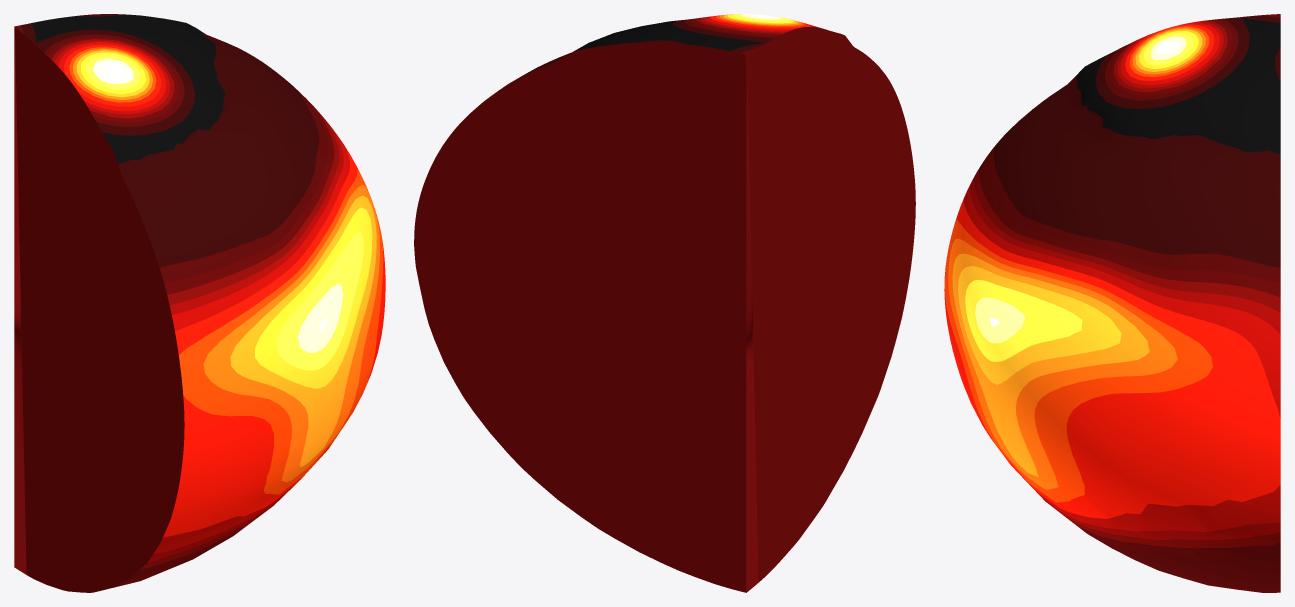
Rendered from dark_orb_br.glb.
3 renders of one model, left to right at view 1: azimuth 30°, elevation 25°; view 2: azimuth 150°, elevation 25°; view 3: azimuth 270°, elevation 25°, orthographic.
Visible parts, largest first — view 1: dark_orb.001; view 2: dark_orb.001; view 3: dark_orb.001.
Part boxes in pixels (bbox=[...]): dark_orb.001: bbox=[14, 14, 385, 592]; dark_orb.001: bbox=[414, 14, 915, 592]; dark_orb.001: bbox=[944, 14, 1280, 592].
Bounding box in the file's own units: 16.99 × 26.31 × 15.
